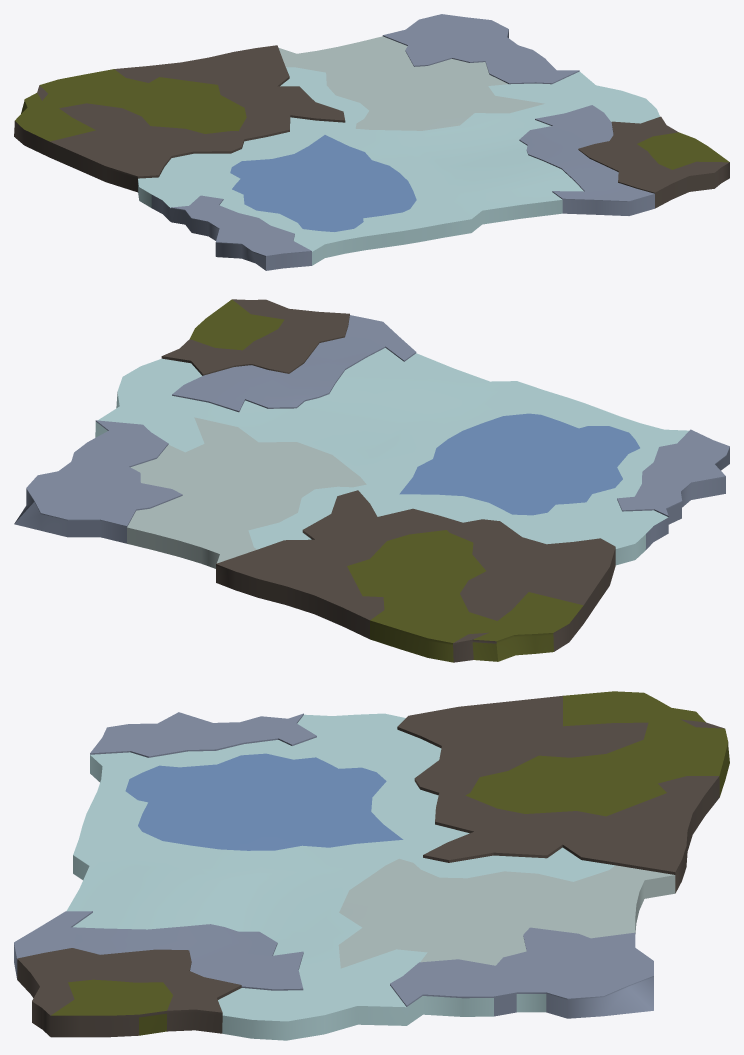
Rendered from Tundra.fbx.
3 views of the same model, one above another, from view 1: azimuth 30°, elevation 25°; view 2: azimuth 150°, elevation 25°; view 3: azimuth 270°, elevation 25° (orthographic). The views are drawn at different scales.
Visible parts, largest first — view 1: pCube31; view 2: pCube31; view 3: pCube31.
Part boxes in pixels (bbox=[...]): pCube31: bbox=[14, 14, 729, 270]; pCube31: bbox=[14, 299, 729, 662]; pCube31: bbox=[14, 691, 729, 1040].
Size of the model in its own units: 49.42 by 1.62 by 45.61.
